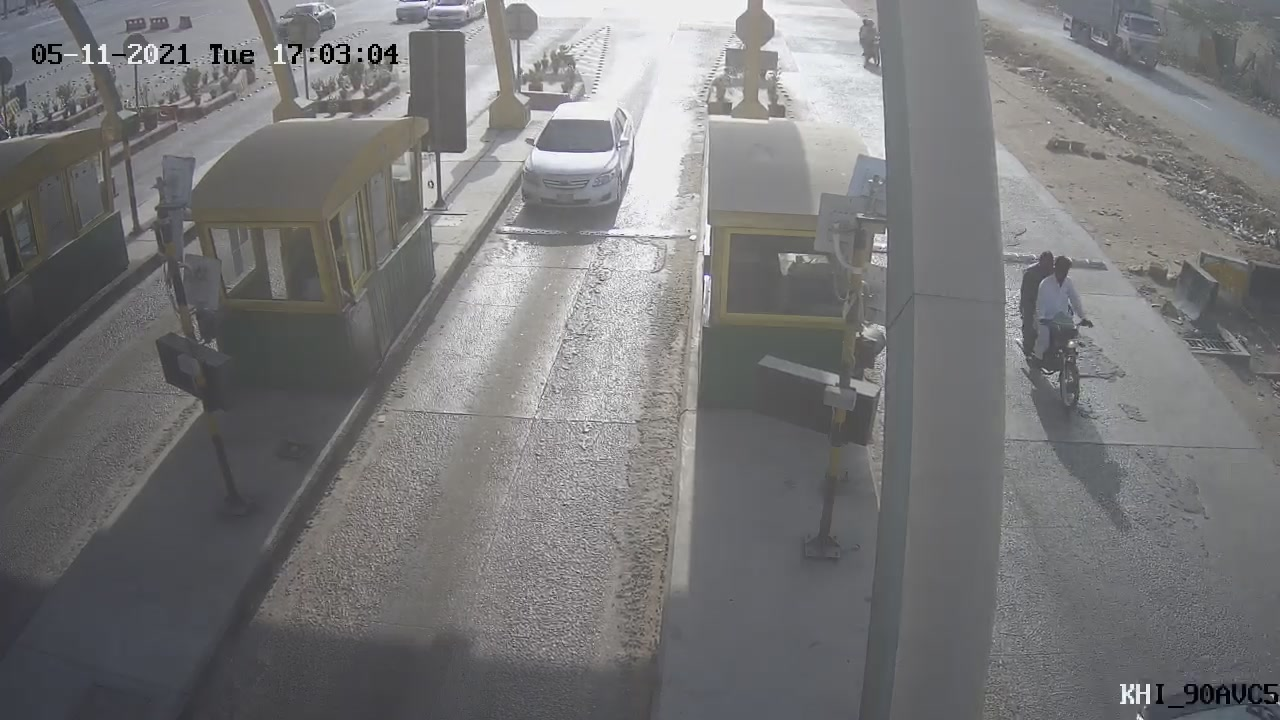F1: (499, 83, 660, 231)
